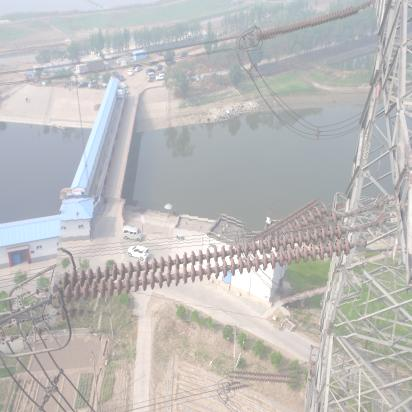insulator: (55, 202, 367, 332), (256, 3, 369, 41), (242, 198, 330, 239), (230, 359, 307, 398)
